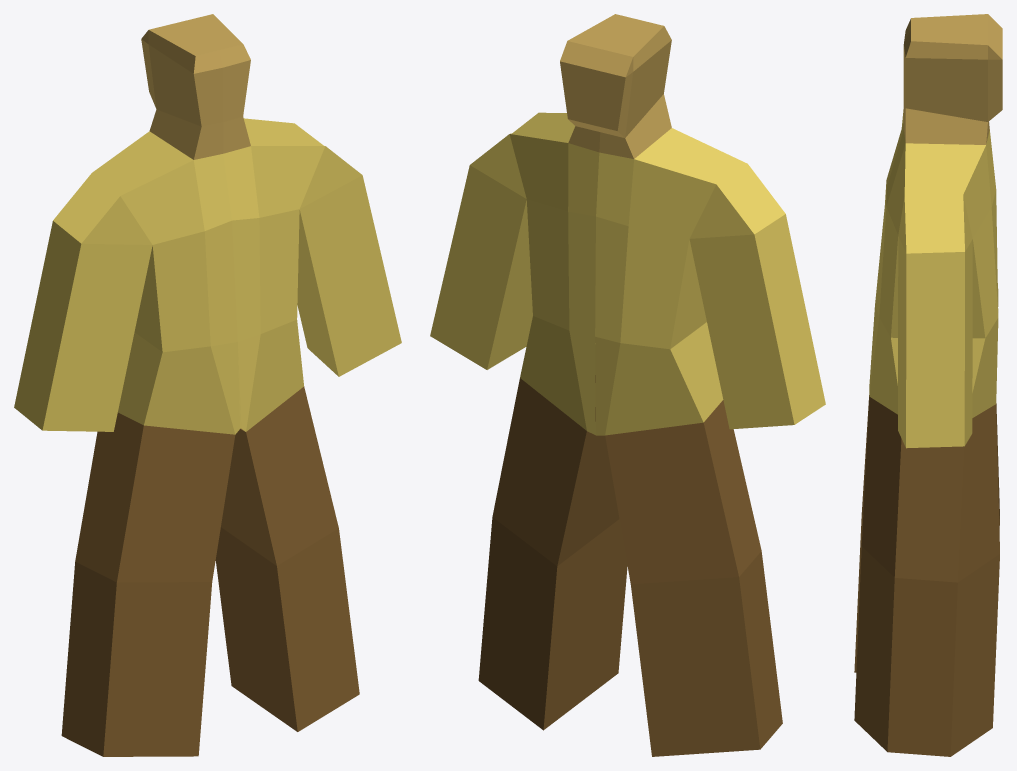
Rendered from people.glb.
3 renders of one model, left to right at view 1: azimuth 30°, elevation 25°; view 2: azimuth 150°, elevation 25°; view 3: azimuth 270°, elevation 25°, orthographic. The views are drawn at different scales.
Parts seen in each view (by area): view 1: Cube; view 2: Cube; view 3: Cube.
Boxes of the visible parts, left/top/right/bottom form: Cube: left=14, top=14, right=401, bottom=756; Cube: left=430, top=14, right=825, bottom=756; Cube: left=854, top=14, right=1002, bottom=756.
Bounding box in the file's own units: 0.4494 × 0.8112 × 0.1619.
